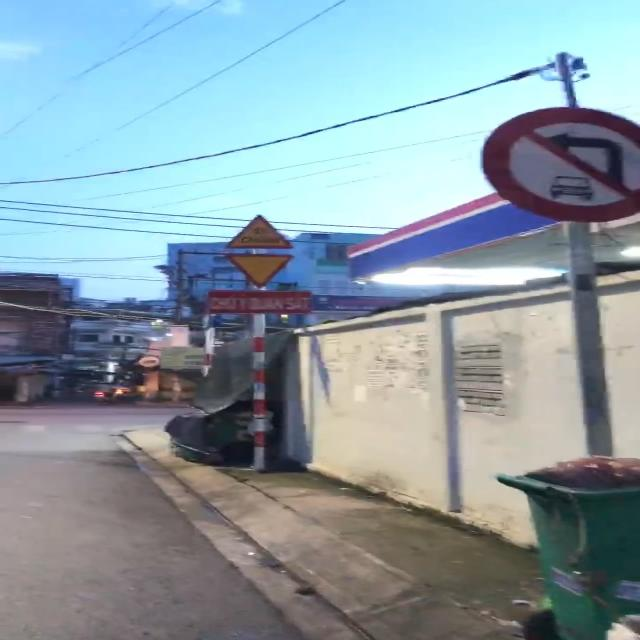Bien bao di cham: (218, 208, 305, 250)
Bien bao giao nhau voi duong uu tien: (216, 251, 308, 289)
